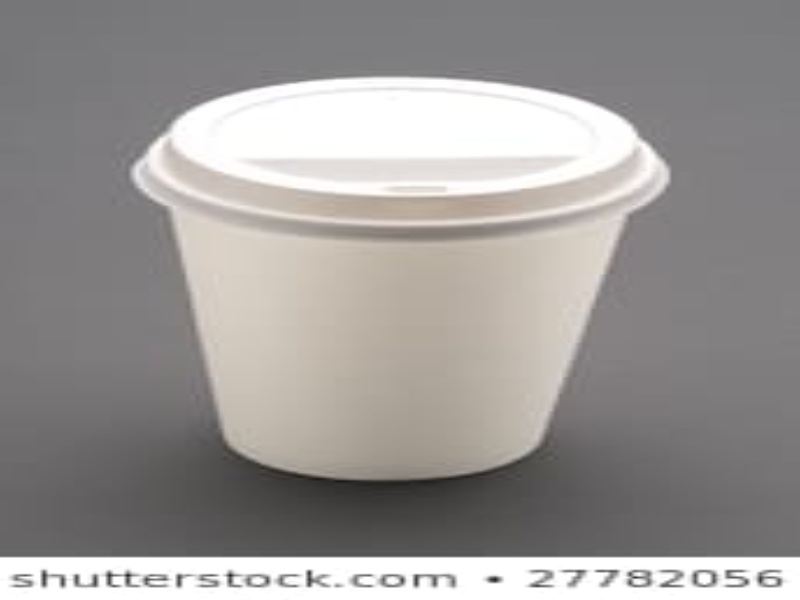coffee-lid: (126, 78, 672, 243)
plastic-cup: (128, 74, 671, 482)
